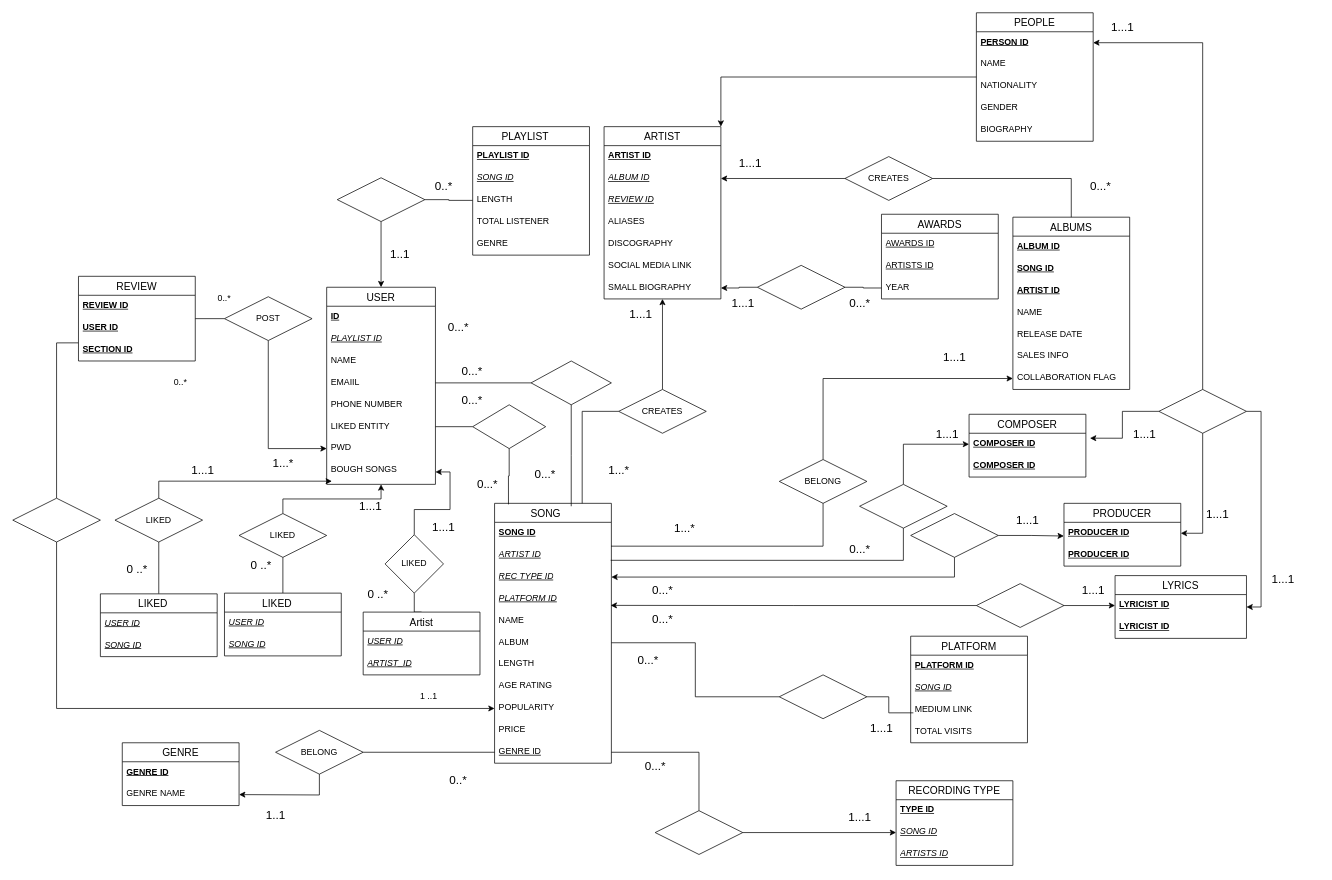
The diagram is 1332 pixels wide and 880 high, and some of its shapes have lost their labels. Here are the shapes that lost their labels. From the top down, the centre of each, then its label:
At (x=381, y=199): "CREATE".
At (x=801, y=287): "RECIEVED".
At (x=570, y=382): "STORED".
At (x=509, y=426): "ADD TO CART".
At (x=1202, y=411): "IDENTIFIED BY".
At (x=56, y=519): "HAS REVIEW".
At (x=903, y=506): "COMPOSED BY".
At (x=954, y=535): "PRODUCED BY".
At (x=1020, y=605): "LYRICS BY".
At (x=823, y=696): "STREAM".
At (x=698, y=832): "CATEGORIZED".
